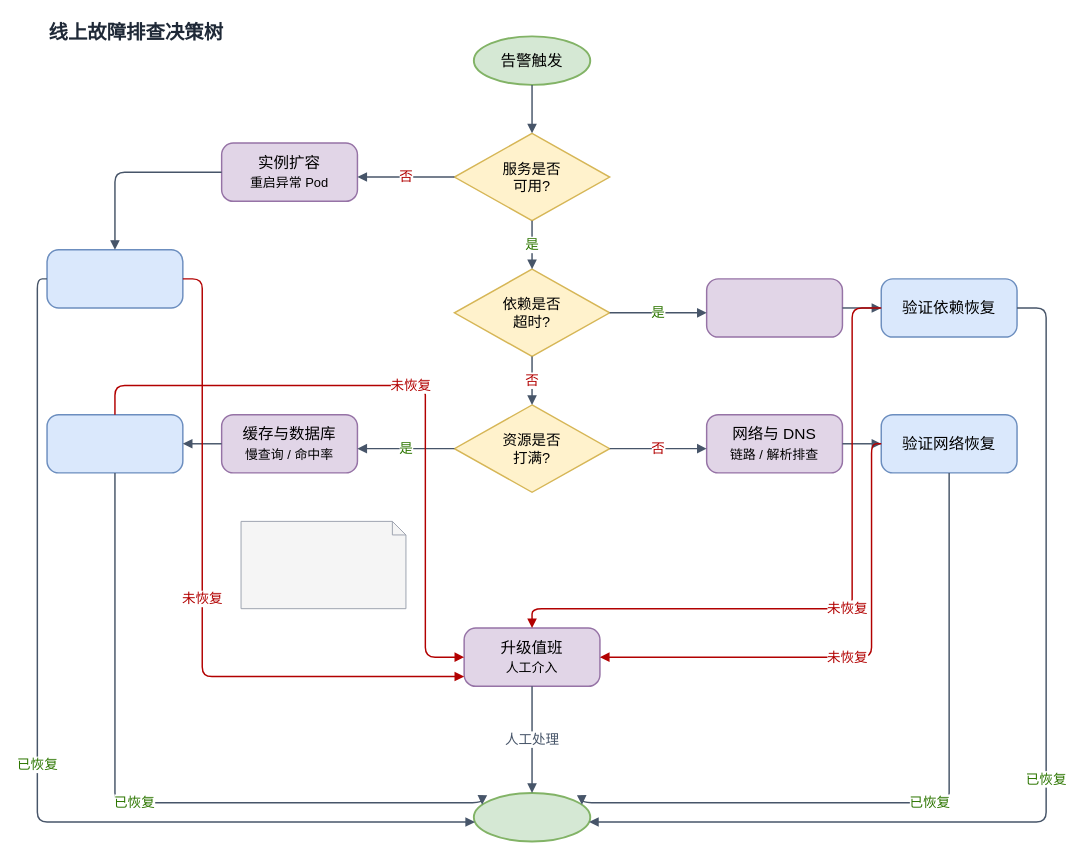
The diagram is 1083 pixels wide and 858 high, and some of its shapes have lost their labels. The centre of each missing label's shape, as x and y in pixels:
"依赖治理 熔断 / 降级 / 重试" goes at pixel 774 307.
"排查顺序 可用性 → 依赖 → 资源 验证未恢复则升级值班" goes at pixel 323 564.
"结束" goes at pixel 531 817.
"验证数据层恢复" goes at pixel 114 443.
"验证服务恢复" goes at pixel 114 278.
